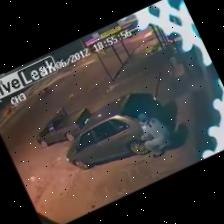person: (138, 113, 171, 157)
